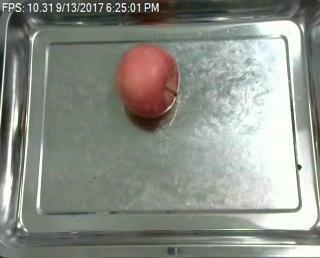apple: (115, 45, 179, 116)
